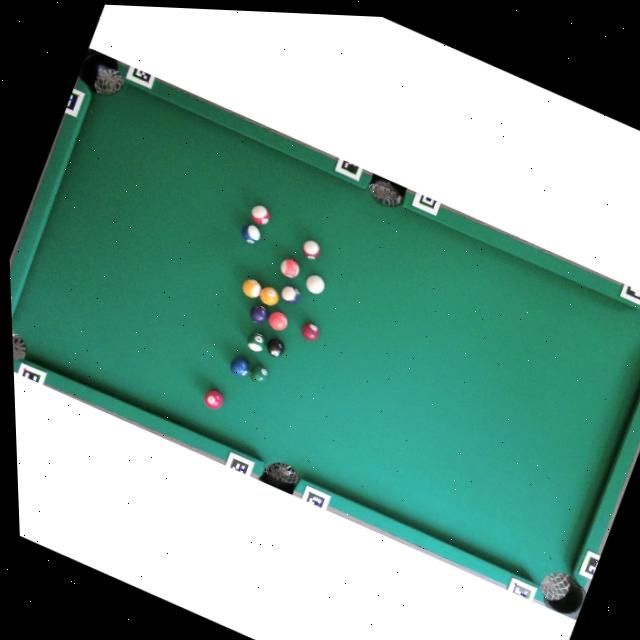cue ball: (302, 272, 328, 297)
other: (200, 385, 227, 413), (243, 328, 270, 355), (247, 202, 274, 229), (237, 221, 264, 247), (226, 354, 252, 380), (256, 283, 282, 309), (264, 308, 290, 334), (298, 236, 324, 262), (246, 300, 271, 327), (276, 255, 302, 280), (297, 319, 322, 344), (239, 275, 264, 300), (262, 334, 287, 359), (246, 361, 270, 386), (278, 282, 302, 307)
